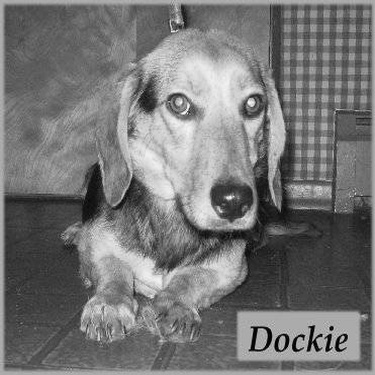dog: (28, 19, 295, 352)
